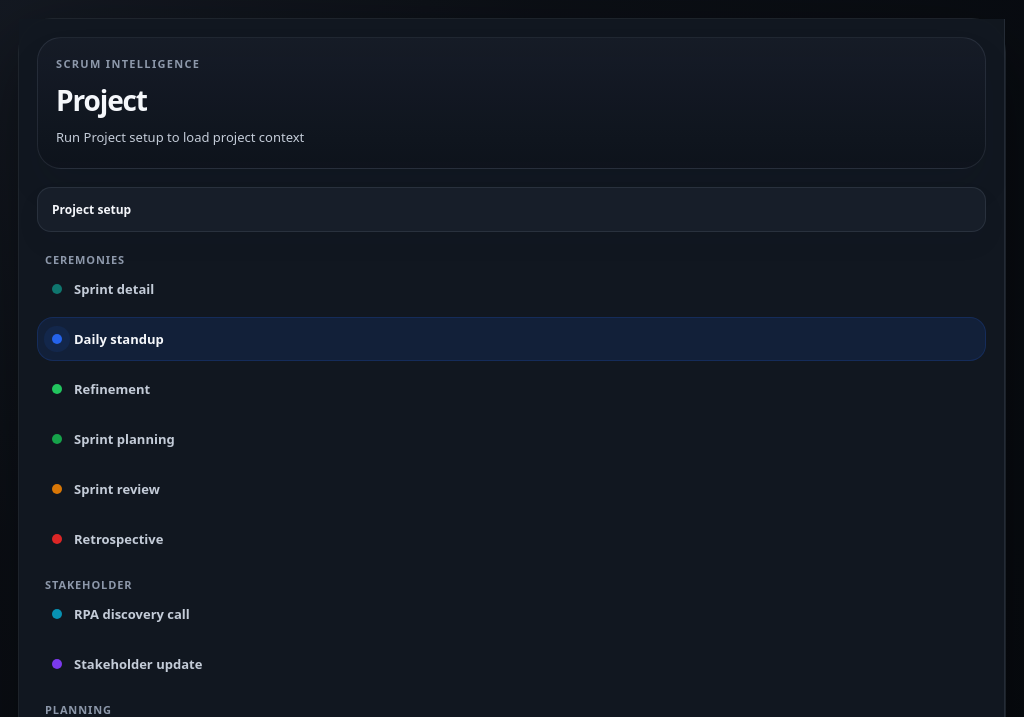
Test: sprint review keeps Hedy intelligence separate from deck-prep slides
The width and height of the screenshot is (1024, 717).
Click the button "Sprint review". click: point(117, 489)
box: x1=37 y1=467 x2=986 y2=511
(page scrolled)
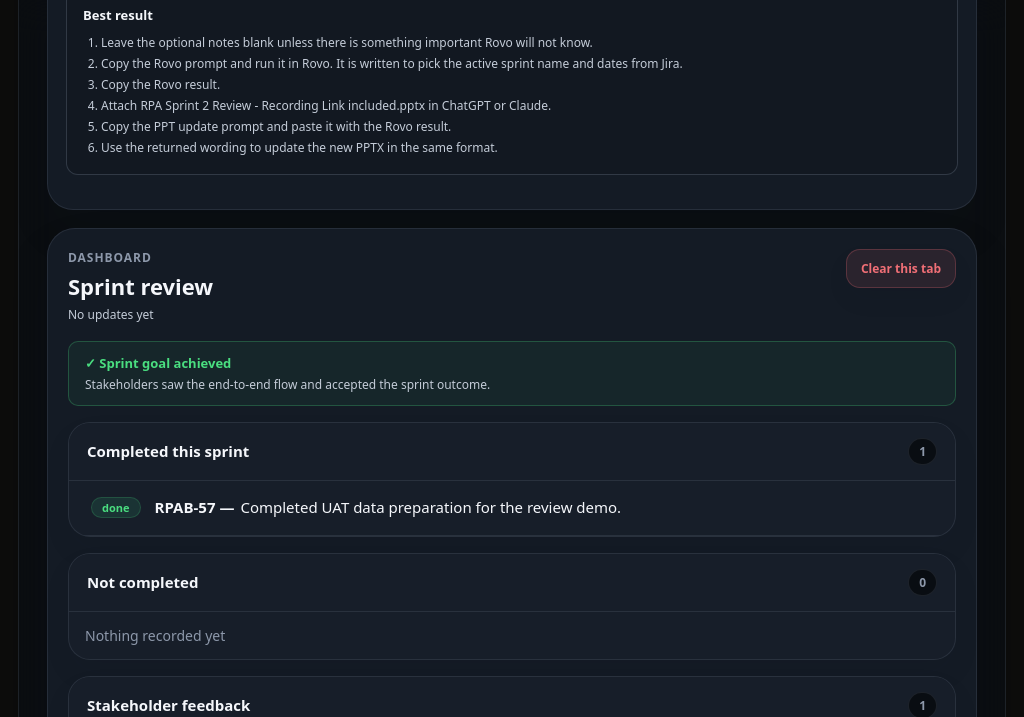
Now the text "Stakeholders saw the end-to-end flow and accepted the sprint outcome." is shown, box x1=85 y1=376 x2=490 y2=393
